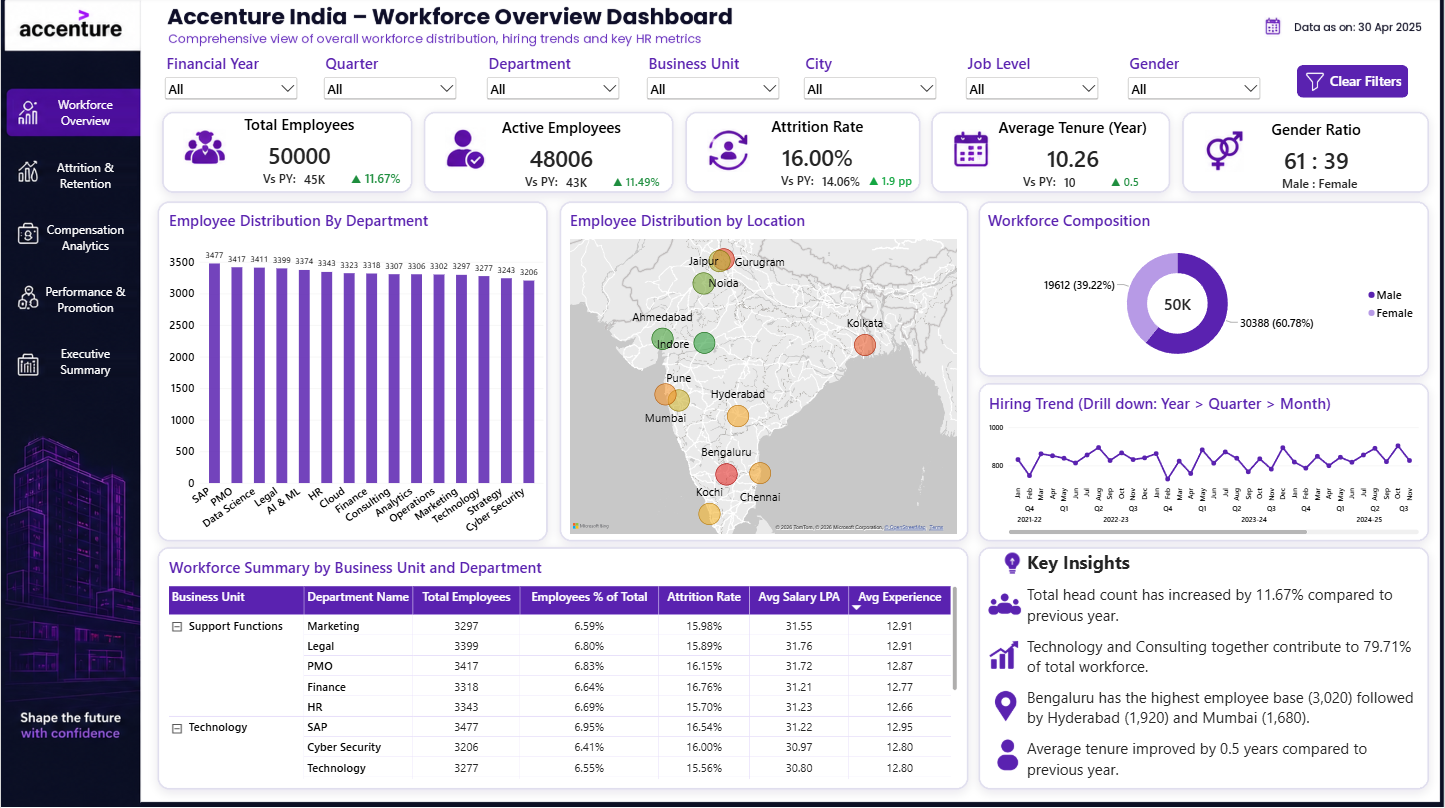

What the dashboard file says about the page in this screenshot:
{"tool":"powerbi","page":{"name":"Workforce Overview","canvas":[2560,1440],"ordinal":0},"visuals":[{"type":"actionButton","box":[2298.9,120.6,197.5,58.2],"z":0},{"type":"textbox","box":[464,306,71,30],"z":0,"group":"g1"},{"type":"textbox","box":[1382,310,71,30],"z":0,"group":"g2"},{"type":"textbox","box":[928,312,71,30],"z":0,"group":"g3"},{"type":"textbox","box":[1812,312,71,30],"z":0,"group":"g4"},{"type":"textbox","box":[2272,316,144,30],"z":0,"group":"g5"},{"type":"slicer","fields":{"Values":["Dim Date.Financial Year"]},"box":[284.8,99.8,245.3,99.8],"z":1000,"group":"g6"},{"type":"image","box":[2311.3,133,39.5,35.3],"z":1000},{"type":"group","id":"g1","title":"Side-KPI","box":[464,302,260,38],"z":1000,"group":"g7"},{"type":"cardVisual","fields":{"Data":["Measures_1.Total Employees PY"]},"box":[520.1,302,72.9,38],"z":1000,"group":"g1"},{"type":"group","id":"g2","title":"Side-KPI","box":[1382,306,260,38],"z":1000,"group":"g9"},{"type":"cardVisual","fields":{"Data":["Measures_1.Attrition Rate PY"]},"box":[1438,306,100,38],"z":1000,"group":"g2"},{"type":"group","id":"g3","title":"Side-KPI","box":[928,308,260,38],"z":1000,"group":"g8"},{"type":"cardVisual","fields":{"Data":["Measures_1.Active Employees PY"]},"box":[984.1,308,72.9,38],"z":1000,"group":"g3"},{"type":"group","id":"g4","title":"Side-KPI","box":[1812,308,260,38],"z":1000,"group":"g10"},{"type":"cardVisual","fields":{"Data":["Measures_1.Average Tenure PY"]},"box":[1868.1,308,72.9,38],"z":1000,"group":"g4"},{"type":"group","id":"g5","title":"Side-KPI","box":[2272,316,144,30],"z":1000,"group":"g11"},{"type":"group","id":"g6","title":"Slicers","box":[284.8,99.8,1953.8,99.8],"z":2000},{"type":"slicer","fields":{"Values":["Dim Date.Fiscal Quarter"]},"box":[567.5,99.8,245.3,99.8],"z":2000,"group":"g6"},{"type":"cardVisual","fields":{"Data":["Measures_1.Total Employees"]},"box":[392,200,274,112],"z":2000,"group":"g7"},{"type":"cardVisual","fields":{"Data":["Measures_1.Attrition Rate"]},"box":[1310,204,274,112],"z":2000,"group":"g9"},{"type":"cardVisual","fields":{"Data":["Measures_1.Active Employees"]},"box":[856,206,274,112],"z":2000,"group":"g8"},{"type":"cardVisual","fields":{"Data":["Measures_1.Average Tenure"]},"box":[1740,206,322,112],"z":2000,"group":"g10"},{"type":"cardVisual","fields":{"Data":["Measures_1.Gender Ratio"]},"box":[2196,210,274,112],"z":2000,"group":"g11"},{"type":"cardVisual","title":"%","fields":{"Data":["Measures_1.Employees Growth Label"]},"box":[604,302,120,36],"z":2000,"group":"g1"},{"type":"cardVisual","title":"%","fields":{"Data":["Measures_1.Attrition Change Label"]},"box":[1522,306,120,36],"z":2000,"group":"g2"},{"type":"cardVisual","title":"%","fields":{"Data":["Measures_1.Active Growth Label"]},"box":[1068,308,120,36],"z":2000,"group":"g3"},{"type":"cardVisual","title":"%","fields":{"Data":["Measures_1.Tenure Change Label"]},"box":[1952,308,120,36],"z":2000,"group":"g4"},{"type":"slicer","fields":{"Values":["Dim Department.Department Name"]},"box":[856.4,99.8,245.3,99.8],"z":3000,"group":"g6"},{"type":"group","id":"g7","title":"2nd KPI","box":[392,200,332,140],"z":3000},{"type":"slicer","fields":{"Values":["Dim Department.Business Unit"]},"box":[1139.1,99.8,245.3,99.8],"z":4000,"group":"g6"},{"type":"group","id":"g8","title":"2nd KPI","box":[856,206,332,140],"z":4000},{"type":"slicer","fields":{"Values":["Dim Location.City"]},"box":[1417.6,99.8,245.3,99.8],"z":5000,"group":"g6"},{"type":"group","id":"g9","title":"2nd KPI","box":[1310,204,332,140],"z":5000},{"type":"slicer","fields":{"Values":["Dim Job Level.Job Level"]},"box":[1704.4,99.8,245.3,99.8],"z":6000,"group":"g6"},{"type":"group","id":"g10","title":"2nd KPI","box":[1740,206,332,140],"z":6000},{"type":"slicer","fields":{"Values":["Dim Employee.Gender"]},"box":[1993.4,99.8,245.3,99.8],"z":7000,"group":"g6"},{"type":"group","id":"g11","title":"2nd KPI","box":[2196,210,274,136],"z":7000},{"type":"columnChart","title":"Employee Distribution By Department","fields":{"Category":["Dim Department.Department Name"],"Y":["Measures_1.Total Employees"]},"box":[282.7,363.7,696.3,619.4],"z":8000},{"type":"map","title":"Employee Distribution by Location","fields":{"Category":["Dim Location.City"],"Size":["Measures_1.Total Employees"]},"box":[993.5,363.7,719.2,604.9],"z":9000},{"type":"donutChart","title":"Workforce Composition","fields":{"Category":["Dim Employee.Gender"],"Y":["Measures_1.Total Employees"]},"box":[1739.7,363.7,789.8,309.7],"z":10000},{"type":"lineChart","title":"Hiring Trend (Drill down: Year > Quarter > Month)","fields":{"Category":["Dim Date.Financial Year","Dim Date.Fiscal Quarter","Dim Date.Month Name"],"Y":["Measures_1.New Hires"]},"box":[1735.6,688,794,280.6],"z":11000},{"type":"pivotTable","title":"Workforce Summary by Business Unit and Department","fields":{"Rows":["Dim Department.Business Unit","Dim Department.Department Name"],"Values":["Measures_1.Total Employees","Measures_1.Employees % of Total","Measures_1.Attrition Rate","Measures_1.Avg Salary LPA","Measures_1.Avg Experience"]},"box":[282.7,979,1430,424],"z":12000},{"type":"textbox","box":[1818.7,979,710.9,424],"z":13000},{"type":"image","box":[1764.7,979,58.2,49.9],"z":14000},{"type":"image","box":[1741.8,1047.6,76.9,66.5],"z":15000},{"type":"image","box":[1739.7,1134.9,76.9,66.5],"z":16000},{"type":"image","box":[1743.9,1224.3,76.9,66.5],"z":17000},{"type":"image","box":[1746,1307.4,76.9,66.5],"z":18000},{"type":"pageNavigator","box":[54,153.8,193.3,550.8],"z":18001}]}

Visuals, with their boxes on the page's 2560x1440 design canvas (x1, y1, x2, y2). These are canvas units, not pixel positions in the 1445x808 screenshot, which may show the page scaled, cropped or inside an application window:
actionButton: [2299, 121, 2496, 179]
textbox: [464, 306, 535, 336]
textbox: [1382, 310, 1453, 340]
textbox: [928, 312, 999, 342]
textbox: [1812, 312, 1883, 342]
textbox: [2272, 316, 2416, 346]
slicer - Dim Date.Financial Year: [285, 100, 530, 200]
image: [2311, 133, 2351, 168]
"Side-KPI" group: [464, 302, 724, 340]
cardVisual - Measures_1.Total Employees PY: [520, 302, 593, 340]
"Side-KPI" group: [1382, 306, 1642, 344]
cardVisual - Measures_1.Attrition Rate PY: [1438, 306, 1538, 344]
"Side-KPI" group: [928, 308, 1188, 346]
cardVisual - Measures_1.Active Employees PY: [984, 308, 1057, 346]
"Side-KPI" group: [1812, 308, 2072, 346]
cardVisual - Measures_1.Average Tenure PY: [1868, 308, 1941, 346]
"Side-KPI" group: [2272, 316, 2416, 346]
"Slicers" group: [285, 100, 2239, 200]
slicer - Dim Date.Fiscal Quarter: [568, 100, 813, 200]
cardVisual - Measures_1.Total Employees: [392, 200, 666, 312]
cardVisual - Measures_1.Attrition Rate: [1310, 204, 1584, 316]
cardVisual - Measures_1.Active Employees: [856, 206, 1130, 318]
cardVisual - Measures_1.Average Tenure: [1740, 206, 2062, 318]
cardVisual - Measures_1.Gender Ratio: [2196, 210, 2470, 322]
"%" cardVisual: [604, 302, 724, 338]
"%" cardVisual: [1522, 306, 1642, 342]
"%" cardVisual: [1068, 308, 1188, 344]
"%" cardVisual: [1952, 308, 2072, 344]
slicer - Dim Department.Department Name: [856, 100, 1102, 200]
"2nd KPI" group: [392, 200, 724, 340]
slicer - Dim Department.Business Unit: [1139, 100, 1384, 200]
"2nd KPI" group: [856, 206, 1188, 346]
slicer - Dim Location.City: [1418, 100, 1663, 200]
"2nd KPI" group: [1310, 204, 1642, 344]
slicer - Dim Job Level.Job Level: [1704, 100, 1950, 200]
"2nd KPI" group: [1740, 206, 2072, 346]
slicer - Dim Employee.Gender: [1993, 100, 2239, 200]
"2nd KPI" group: [2196, 210, 2470, 346]
"Employee Distribution By Department" columnChart: [283, 364, 979, 983]
"Employee Distribution by Location" map: [994, 364, 1713, 969]
"Workforce Composition" donutChart: [1740, 364, 2530, 673]
"Hiring Trend (Drill down: Year > Quarter > Month)" lineChart: [1736, 688, 2530, 969]
"Workforce Summary by Business Unit and Department" pivotTable: [283, 979, 1713, 1403]
textbox: [1819, 979, 2530, 1403]
image: [1765, 979, 1823, 1029]
image: [1742, 1048, 1819, 1114]
image: [1740, 1135, 1817, 1201]
image: [1744, 1224, 1821, 1291]
image: [1746, 1307, 1823, 1374]
pageNavigator: [54, 154, 247, 705]
